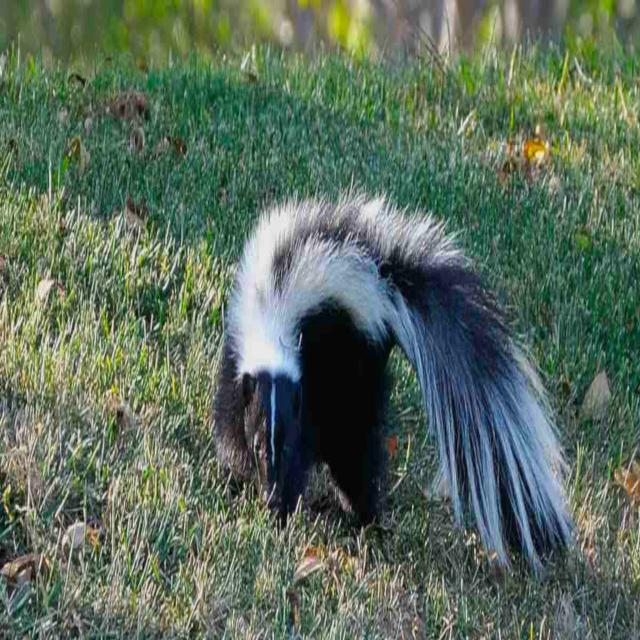Skunk: (194, 145, 611, 588)
